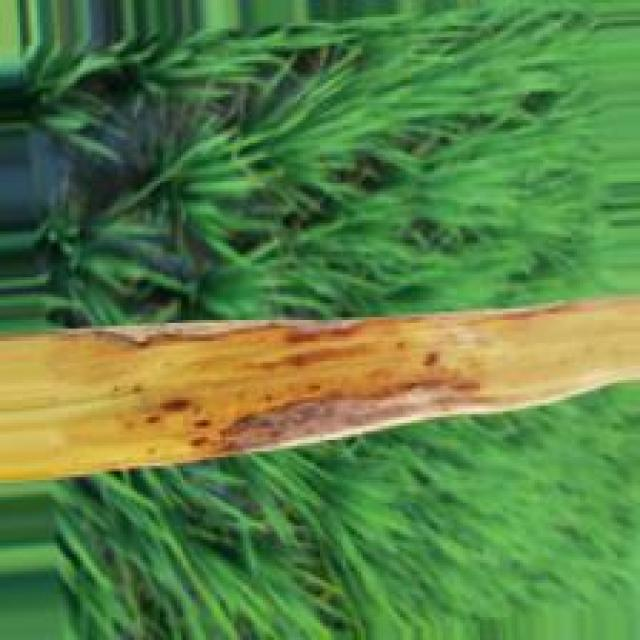Leaf_Scald: (3, 297, 640, 483)
